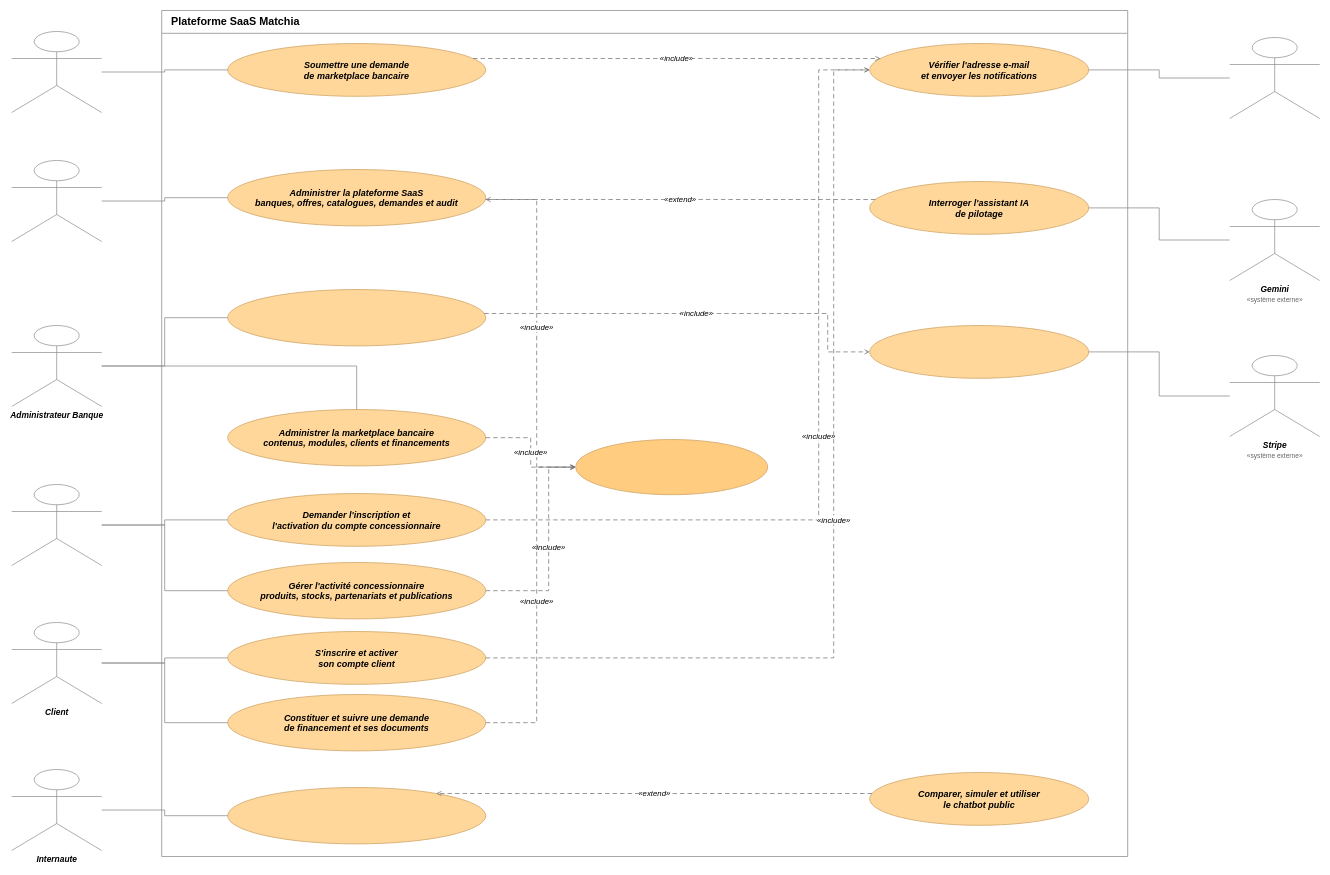
The diagram is 1330 pixels wide and 875 high, and some of its shapes have lost their labels. Here are the shapes that lost their labels. From the top down, the centre of each, then its label:
At point 56,71: "Demandeur banque".
At point 1274,77: "Service d'e-mail «système externe»".
At point 56,201: "Administrateur SaaS".
At point 356,317: "Souscrire ou renouveler des services".
At point 979,351: "Effectuer un paiement sécurisé".
At point 671,467: "S'authentifier".
At point 56,525: "Concessionnaire".
At point 356,815: "Explorer la marketplace publique stores, produits et détails".
